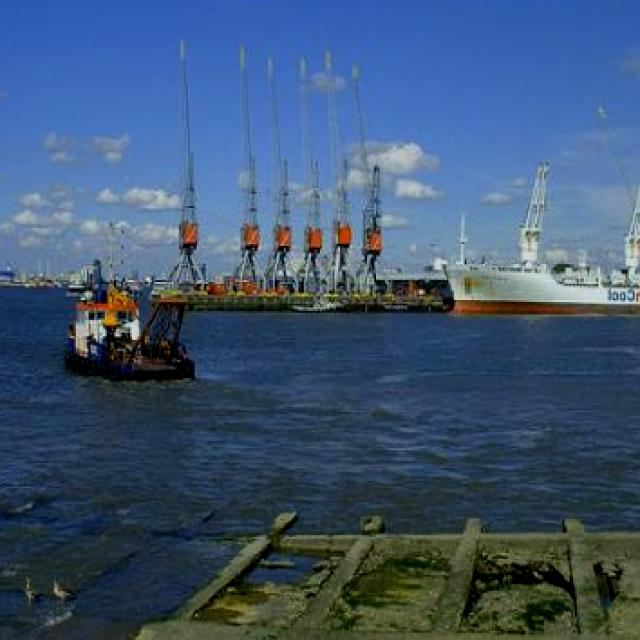ship: (427, 166, 640, 328), (49, 265, 210, 384)
